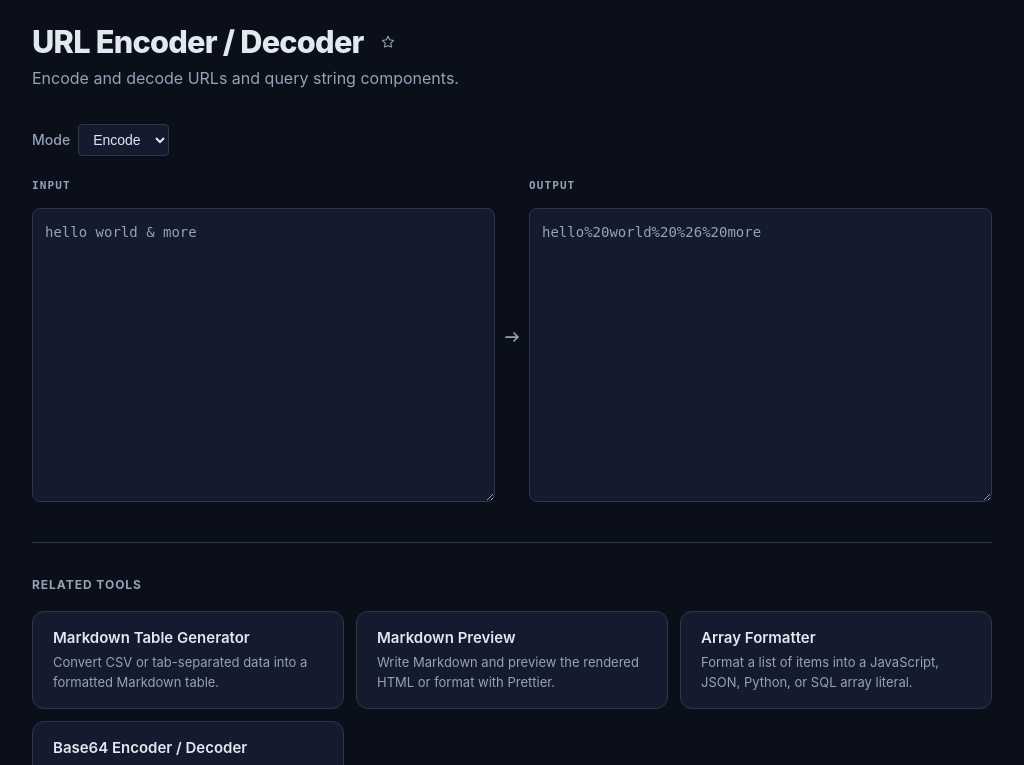
UrlEncoder › encodes "hello world" to "hello%20world"
Type "hello world" into the text box named "input". click: (264, 355)
box: left=32, top=208, right=495, bottom=502
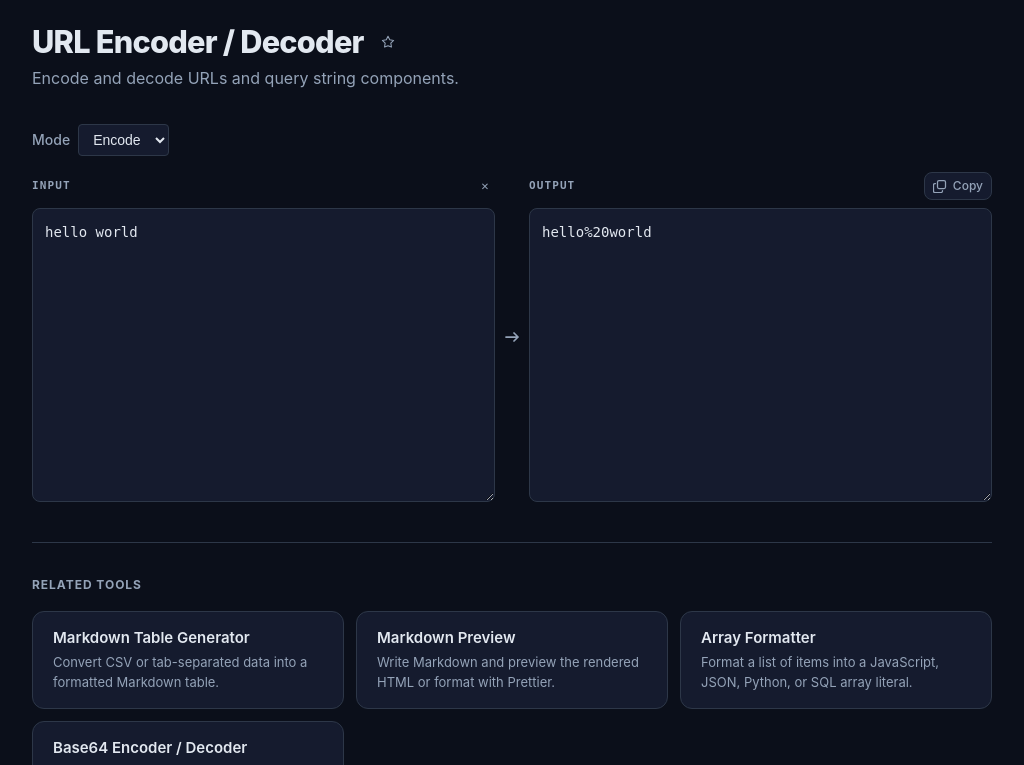
Check: the text box named "output" holds "hello%20world", box left=529, top=208, right=992, bottom=502
